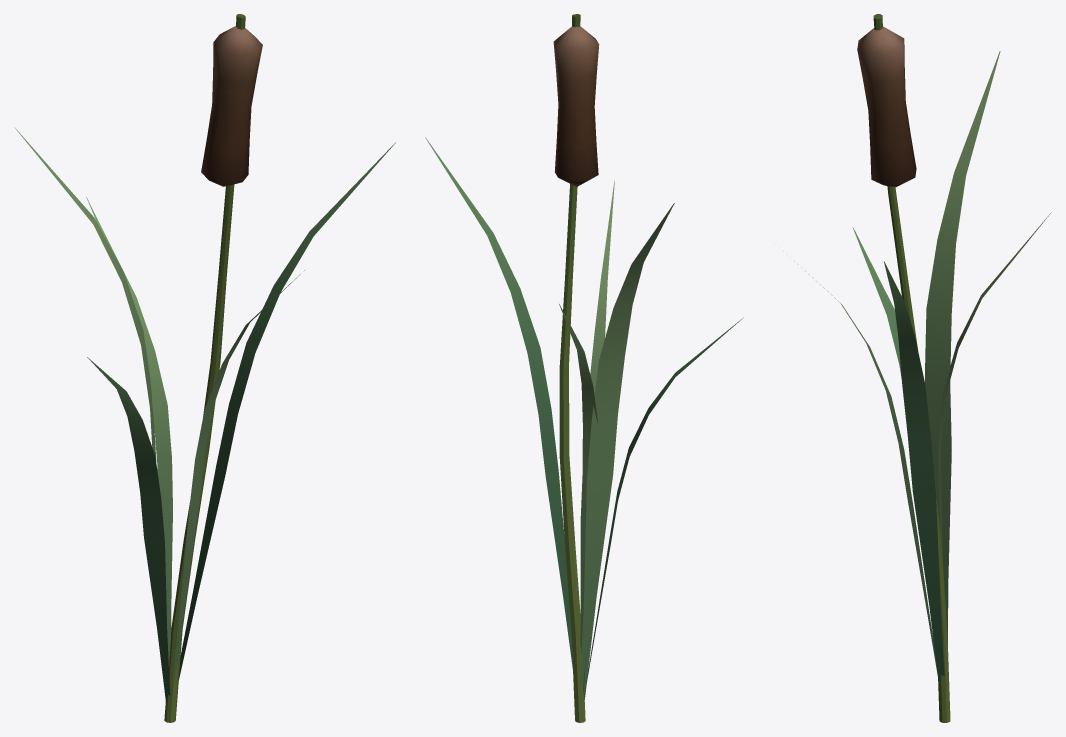
The model's file is cattail_2.fbx.
3 renders of one model, left to right at view 1: azimuth 30°, elevation 25°; view 2: azimuth 150°, elevation 25°; view 3: azimuth 270°, elevation 25°, orthographic. The views are drawn at different scales.
Parts seen in each view (by area): view 1: cattail_3; view 2: cattail_3; view 3: cattail_3.
Boxes of the visible parts, box(x1,y1,x2,y2) form: cattail_3: box(14, 14, 395, 722); cattail_3: box(425, 14, 743, 722); cattail_3: box(790, 14, 1051, 722).
Bounding box in the file's own units: 116 × 245 × 85.96.
